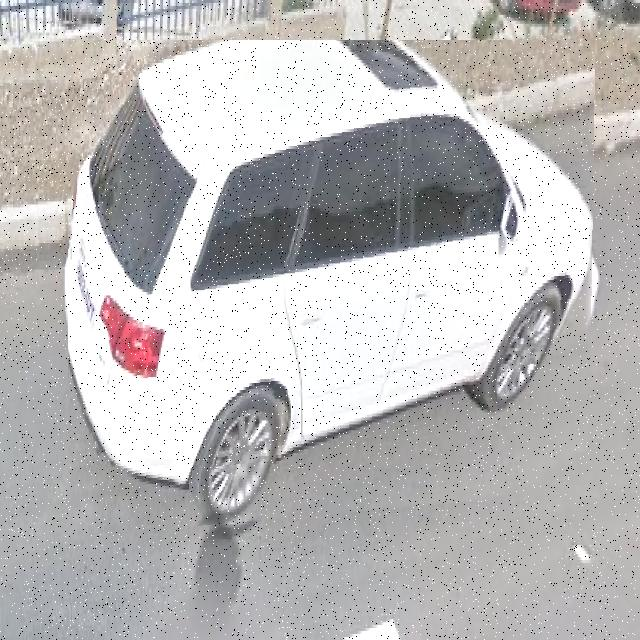car: (69, 41, 597, 539)
